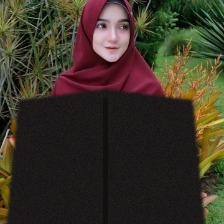Cadar_Niqab: (6, 0, 205, 224)
